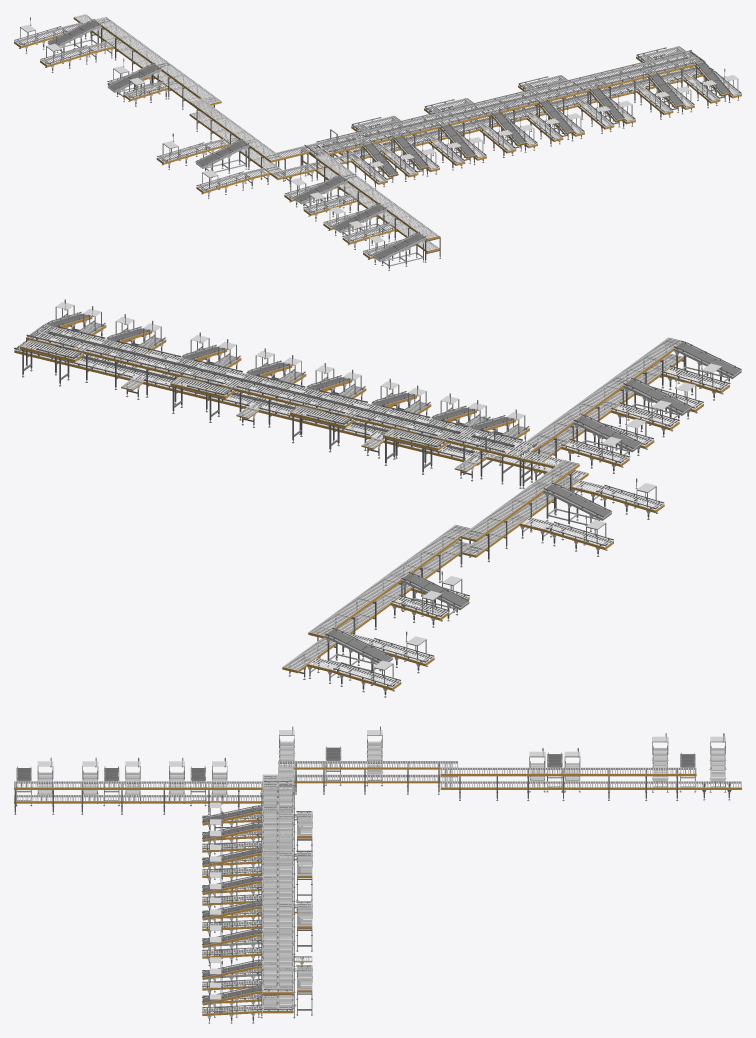
File: conveyor.glb
3 renders of one model, top to bottom at view 1: azimuth 30°, elevation 25°; view 2: azimuth 150°, elevation 25°; view 3: azimuth 270°, elevation 25°, orthographic. The views are drawn at different scales.
Visible parts, largest first — view 1: 对象049, 对象007, 对象025, 对象057, 对象016, 对象047, 对象052, Circle048, Circle055, 对象051, 对象055, 对象056 (+2 smaller); view 2: 对象049, 对象025, 对象007, 对象057, 对象047, 对象016, Circle055, Circle048, 对象052, 对象055, 对象056, 对象051 (+2 smaller); view 3: 对象049, 对象057, 对象025, 对象007, 对象051, Circle048, 对象016, 对象052, 对象047, 对象055, Circle055, 对象056 (+1 smaller).
Boxes of the visible parts, left/top/right/bottom form: 对象049: left=15, top=14, right=702, bottom=256; 对象007: left=14, top=19, right=741, bottom=270; 对象025: left=14, top=14, right=714, bottom=257; 对象057: left=14, top=17, right=741, bottom=259; 对象016: left=49, top=20, right=729, bottom=259; 对象047: left=306, top=46, right=711, bottom=155; 对象052: left=353, top=73, right=740, bottom=182; Circle048: left=353, top=62, right=739, bottom=181; Circle055: left=17, top=17, right=422, bottom=257; 对象051: left=351, top=62, right=741, bottom=182; 对象055: left=370, top=75, right=738, bottom=167; 对象056: left=20, top=24, right=384, bottom=242; 对象049: left=16, top=325, right=728, bottom=687; 对象025: left=14, top=324, right=729, bottom=688; 对象007: left=14, top=311, right=741, bottom=697; 对象057: left=14, top=316, right=729, bottom=690; 对象047: left=17, top=325, right=534, bottom=457; 对象016: left=48, top=314, right=740, bottom=661; Circle055: left=328, top=341, right=738, bottom=685; Circle048: left=49, top=299, right=527, bottom=444; 对象052: left=35, top=317, right=528, bottom=448; 对象055: left=56, top=302, right=524, bottom=419; 对象056: left=373, top=363, right=721, bottom=669; 对象051: left=43, top=313, right=529, bottom=444; 对象049: left=15, top=741, right=741, bottom=1010; 对象057: left=14, top=767, right=741, bottom=1015; 对象025: left=14, top=743, right=741, bottom=1010; 对象007: left=14, top=739, right=731, bottom=1023; 对象051: left=202, top=806, right=262, bottom=1013; Circle048: left=205, top=794, right=259, bottom=1012; 对象016: left=17, top=747, right=694, bottom=1002; 对象052: left=202, top=815, right=261, bottom=1013; 对象047: left=263, top=781, right=312, bottom=1009; 对象055: left=210, top=802, right=221, bottom=999; Circle055: left=17, top=726, right=725, bottom=791; 对象056: left=37, top=730, right=725, bottom=766.
Size of the model in its own units: 3087 by 205 by 3479.
